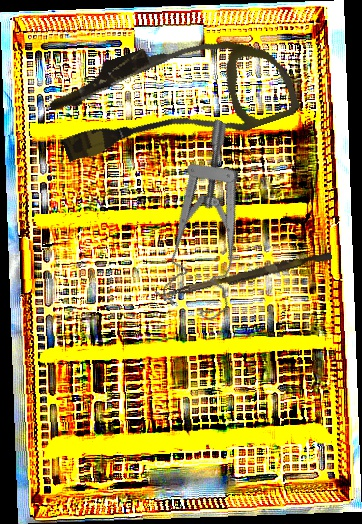Cannula: (42, 6, 302, 189)
Pusher: (160, 247, 333, 305)
Speculum: (121, 118, 308, 330)
